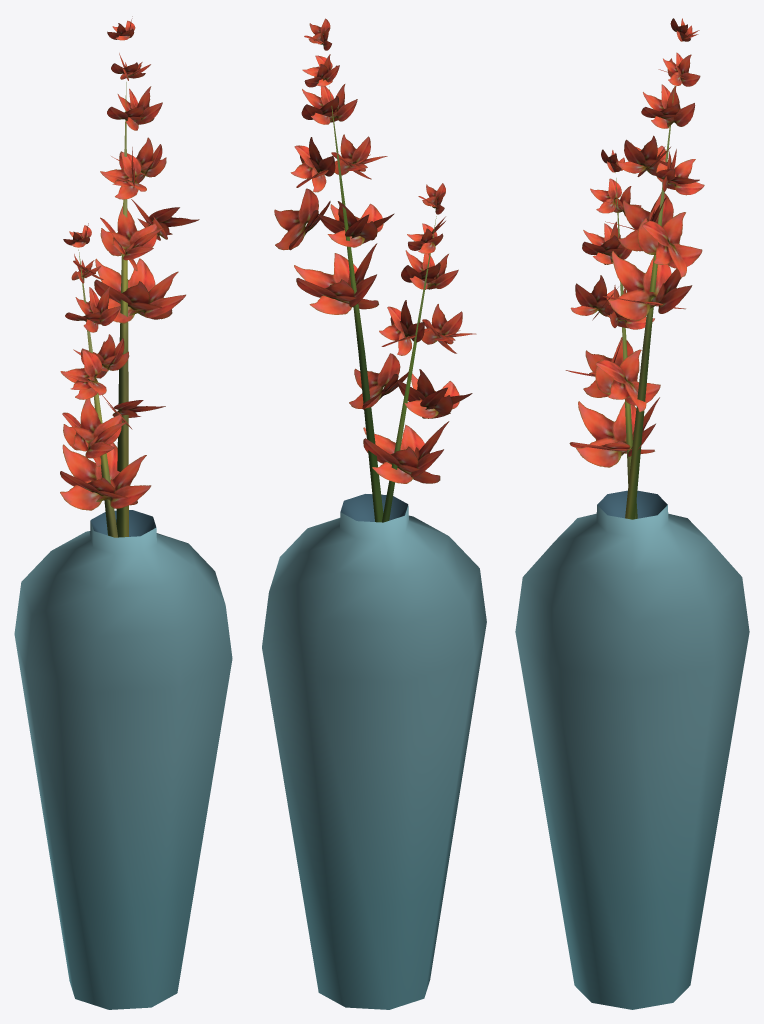
Rendered from M_zhiwu03.FBX.
The picture shows the model from 3 angles, left to right: view 1: azimuth 30°, elevation 25°; view 2: azimuth 150°, elevation 25°; view 3: azimuth 270°, elevation 25°; orthographic projection. The views are drawn at different scales.
Visible parts, largest first — view 1: M_zhiwu03_01, M_zhiwu03_02; view 2: M_zhiwu03_01, M_zhiwu03_02; view 3: M_zhiwu03_01, M_zhiwu03_02.
Boxes of the visible parts, bbox=[...] form: M_zhiwu03_01: bbox=[14, 510, 232, 1009]; M_zhiwu03_02: bbox=[60, 16, 199, 537]; M_zhiwu03_01: bbox=[262, 494, 486, 1009]; M_zhiwu03_02: bbox=[274, 18, 476, 522]; M_zhiwu03_01: bbox=[515, 490, 749, 1009]; M_zhiwu03_02: bbox=[565, 18, 704, 519].
Bounding box in the file's own units: 0.555 × 2.58 × 0.555.
